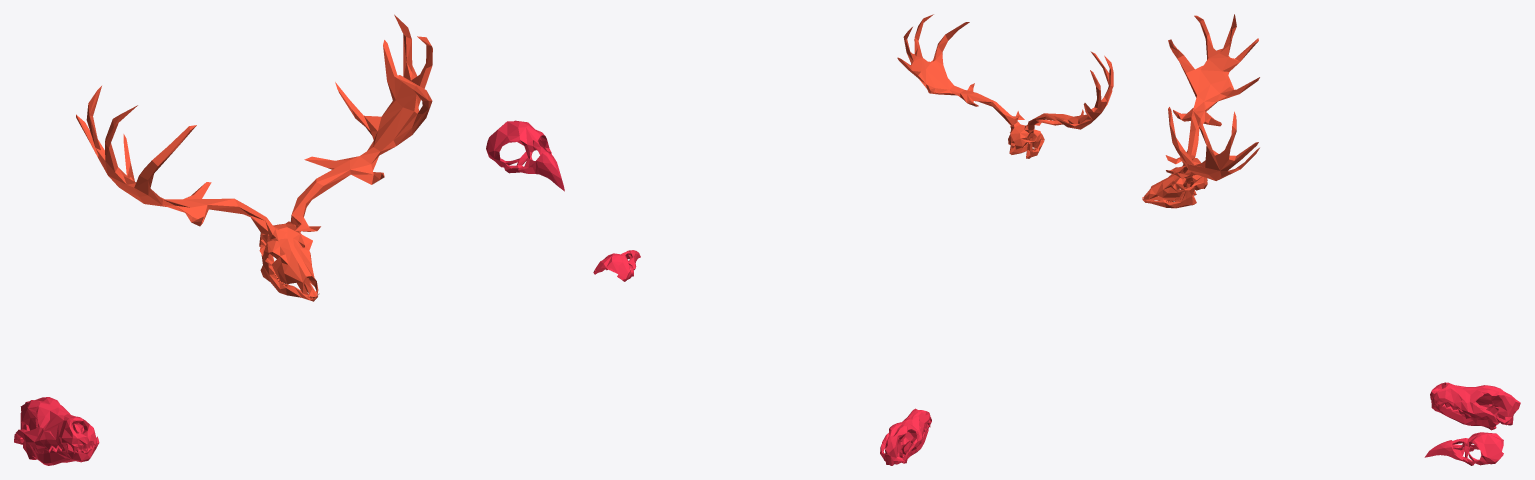
File: fisicasFalsas.glb
3 renders of one model, left to right at view 1: azimuth 30°, elevation 25°; view 2: azimuth 150°, elevation 25°; view 3: azimuth 270°, elevation 25°, orthographic. The views are drawn at different scales.
Visible parts, largest first — view 1: antil_skull1, wolf_skull1, crow_skull1; view 2: antil_skull1, wolf_skull1, crow_skull1; view 3: antil_skull1, wolf_skull1, crow_skull1.
Part boxes in pixels (x1,y1,x2,y2): antil_skull1: (76,14,432,301); wolf_skull1: (14,397,99,465); crow_skull1: (486,120,564,191); antil_skull1: (897,14,1113,158); wolf_skull1: (880,408,931,465); crow_skull1: (593,250,640,281); antil_skull1: (1142,14,1259,208); wolf_skull1: (1430,382,1520,430); crow_skull1: (1424,432,1503,465).
Size of what is drawn, in the model's own units: 11.43 by 9.17 by 8.48.
